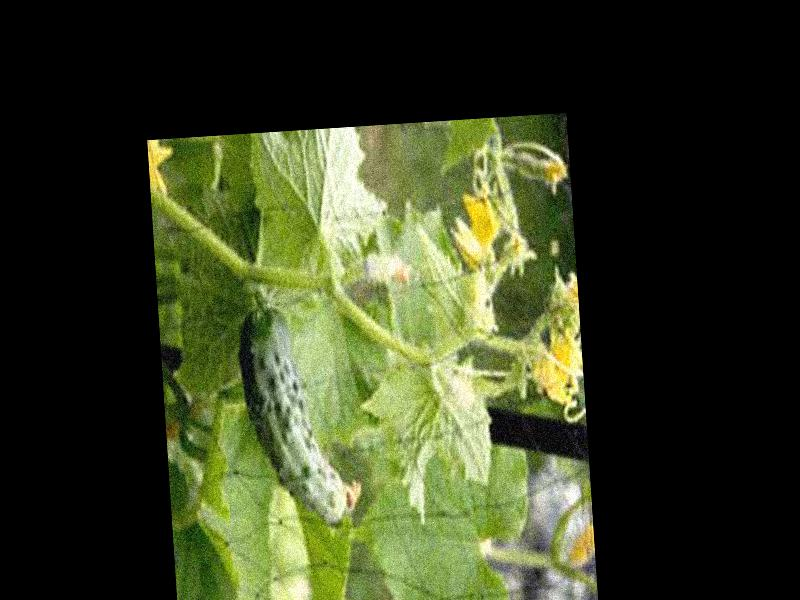Cucumber: (236, 297, 364, 531)
